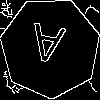A: (25, 22, 67, 74)
